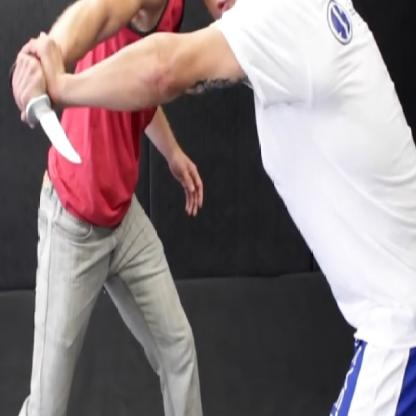knife: (5, 56, 86, 176)
